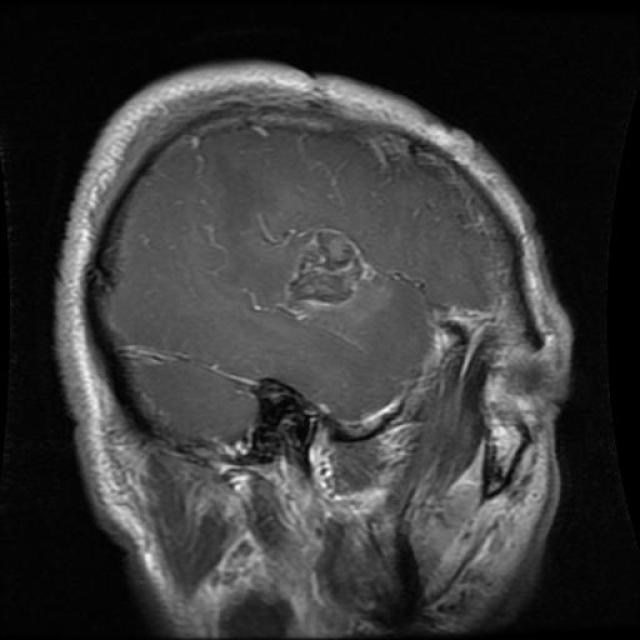glioma: (275, 228, 370, 316)
